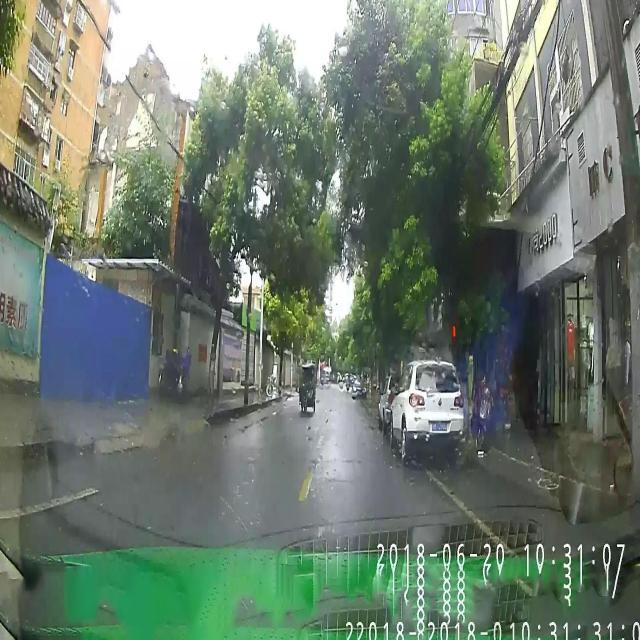car: (389, 358, 464, 463), (377, 374, 397, 429), (352, 376, 366, 398)
